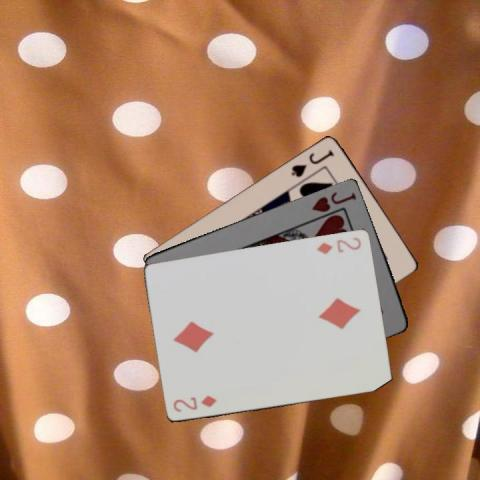2d: (314, 234, 363, 256), (170, 392, 218, 413)
Jh: (309, 188, 358, 213)
Js: (288, 146, 335, 179)
